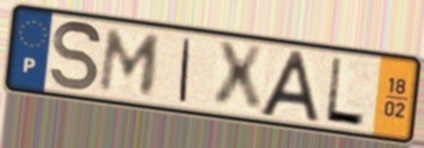A: (256, 48, 322, 126)
I: (176, 36, 195, 106)
L: (322, 55, 367, 130)
M: (95, 26, 165, 98)
S: (48, 18, 104, 95)
X: (212, 39, 267, 115)
